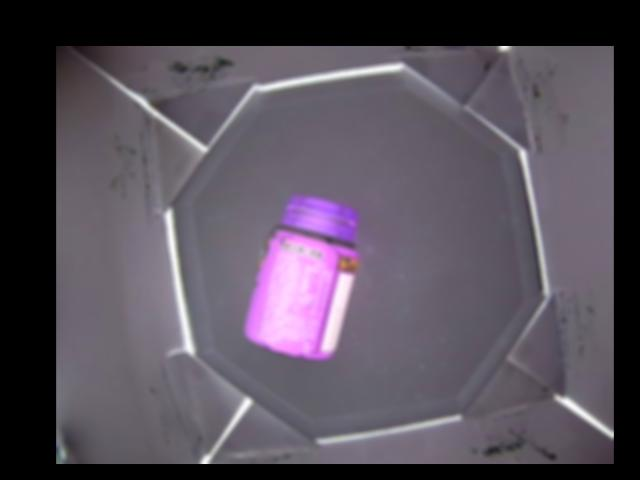Bottle: (243, 198, 359, 360)
